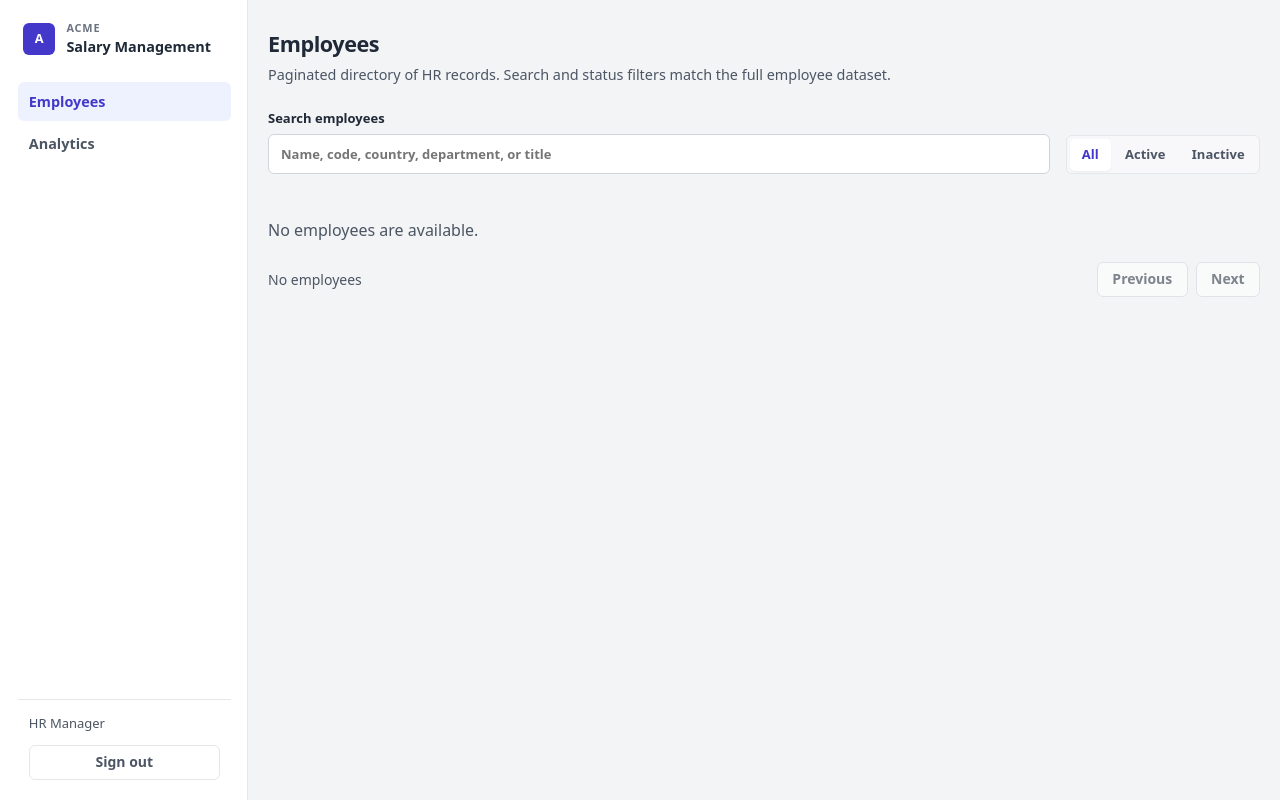
Test: logout 401 returns to the login screen
Check: the heading "Employees" is shown, box left=268, top=29, right=379, bottom=58
Click the button "Sign out" at coordinates (124, 763), box left=29, top=745, right=220, bottom=780
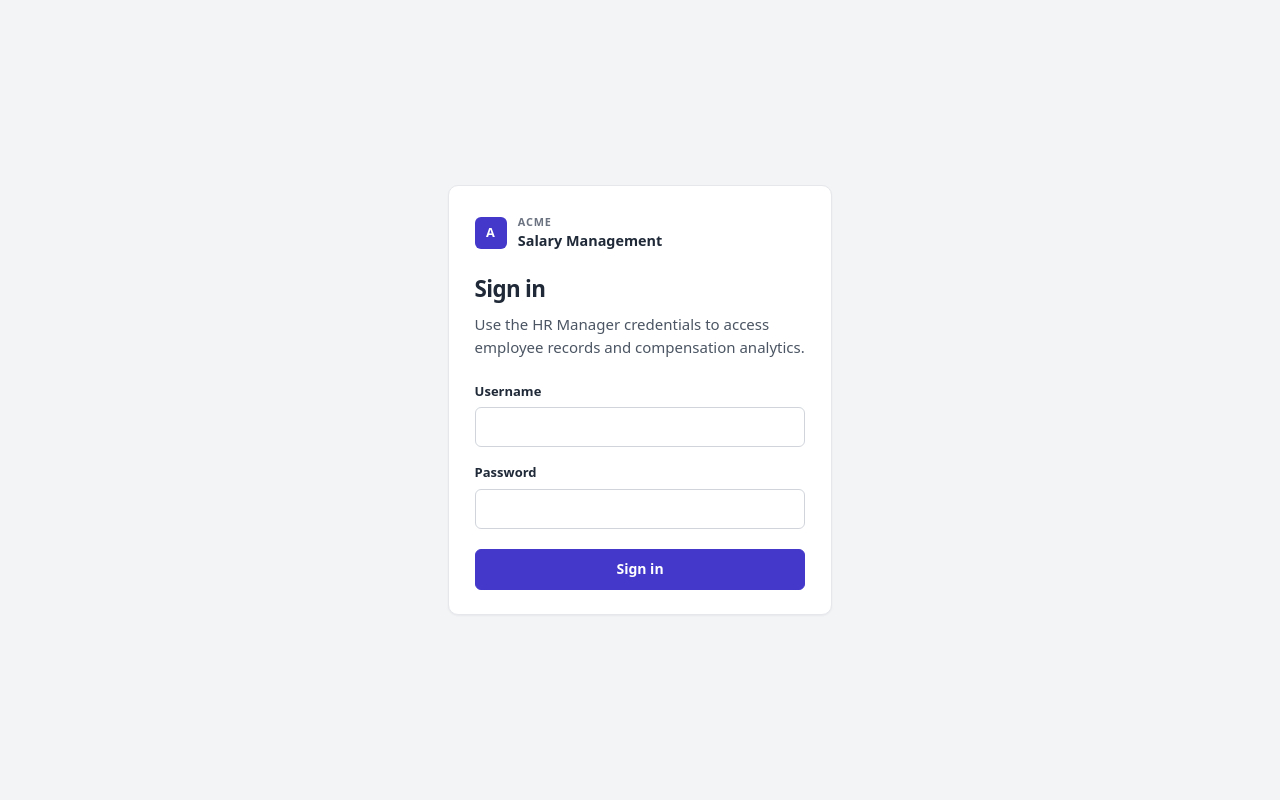
Check: the heading "Sign in" is shown, box left=475, top=273, right=545, bottom=304
Check: the button "Sign out" is gone
Check: the navigation bar "Primary" is gone
